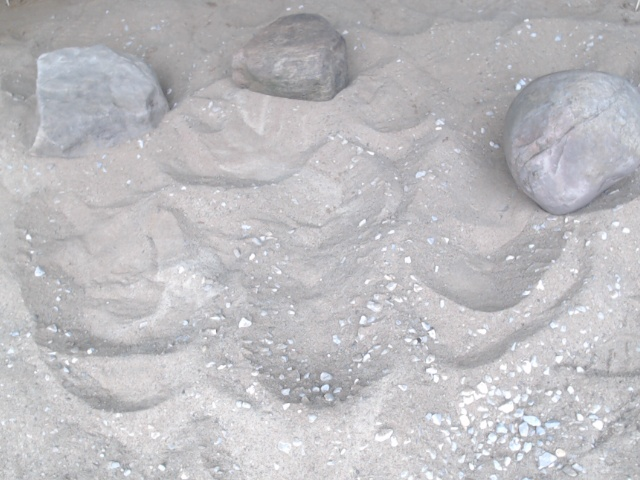rock: (495, 64, 640, 221), (17, 38, 175, 165), (224, 8, 357, 108)
